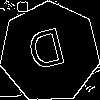D: (25, 27, 70, 80)
